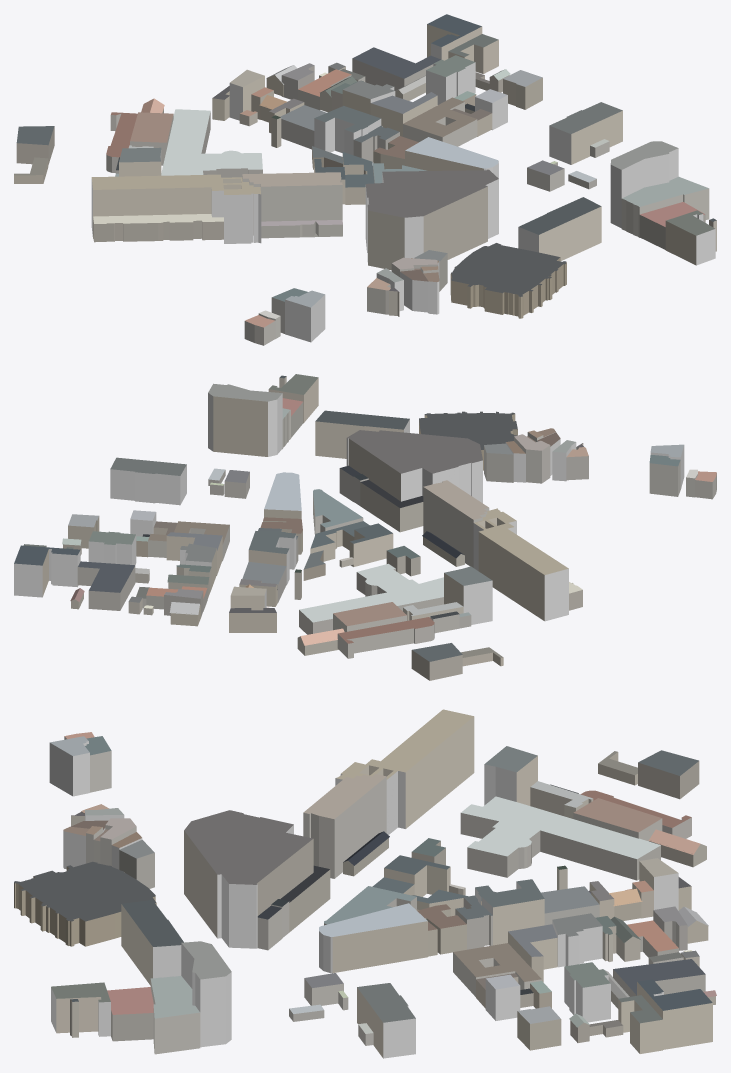
3 views of the same model, one above another, from view 1: azimuth 30°, elevation 25°; view 2: azimuth 150°, elevation 25°; view 3: azimuth 270°, elevation 25° (orthographic). The views are drawn at different scales.
Visible parts, largest first — view 1: tuile; view 2: tuile; view 3: tuile.
Boxes of the visible parts, <box> form: tuile: <box>14,14,716,345</box>; tuile: <box>14,374,716,680</box>; tuile: <box>14,709,716,1058</box>.
Bounding box in the file's own units: 271 × 31.08 × 279.
